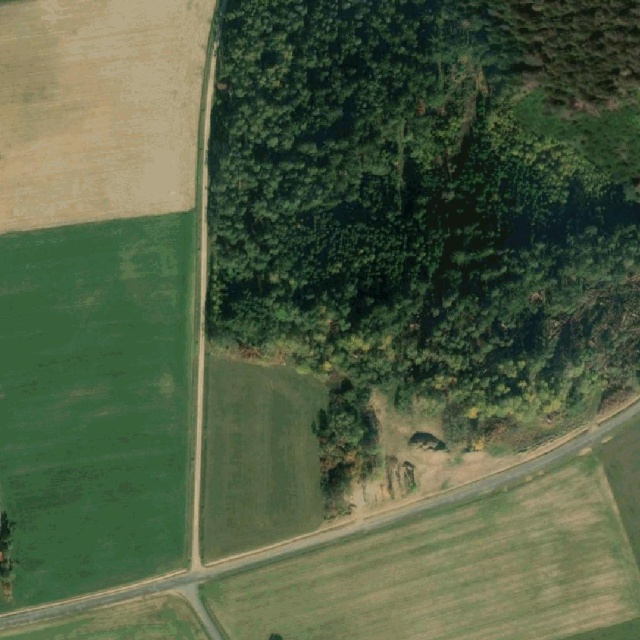vegetation: (206, 0, 640, 514)
